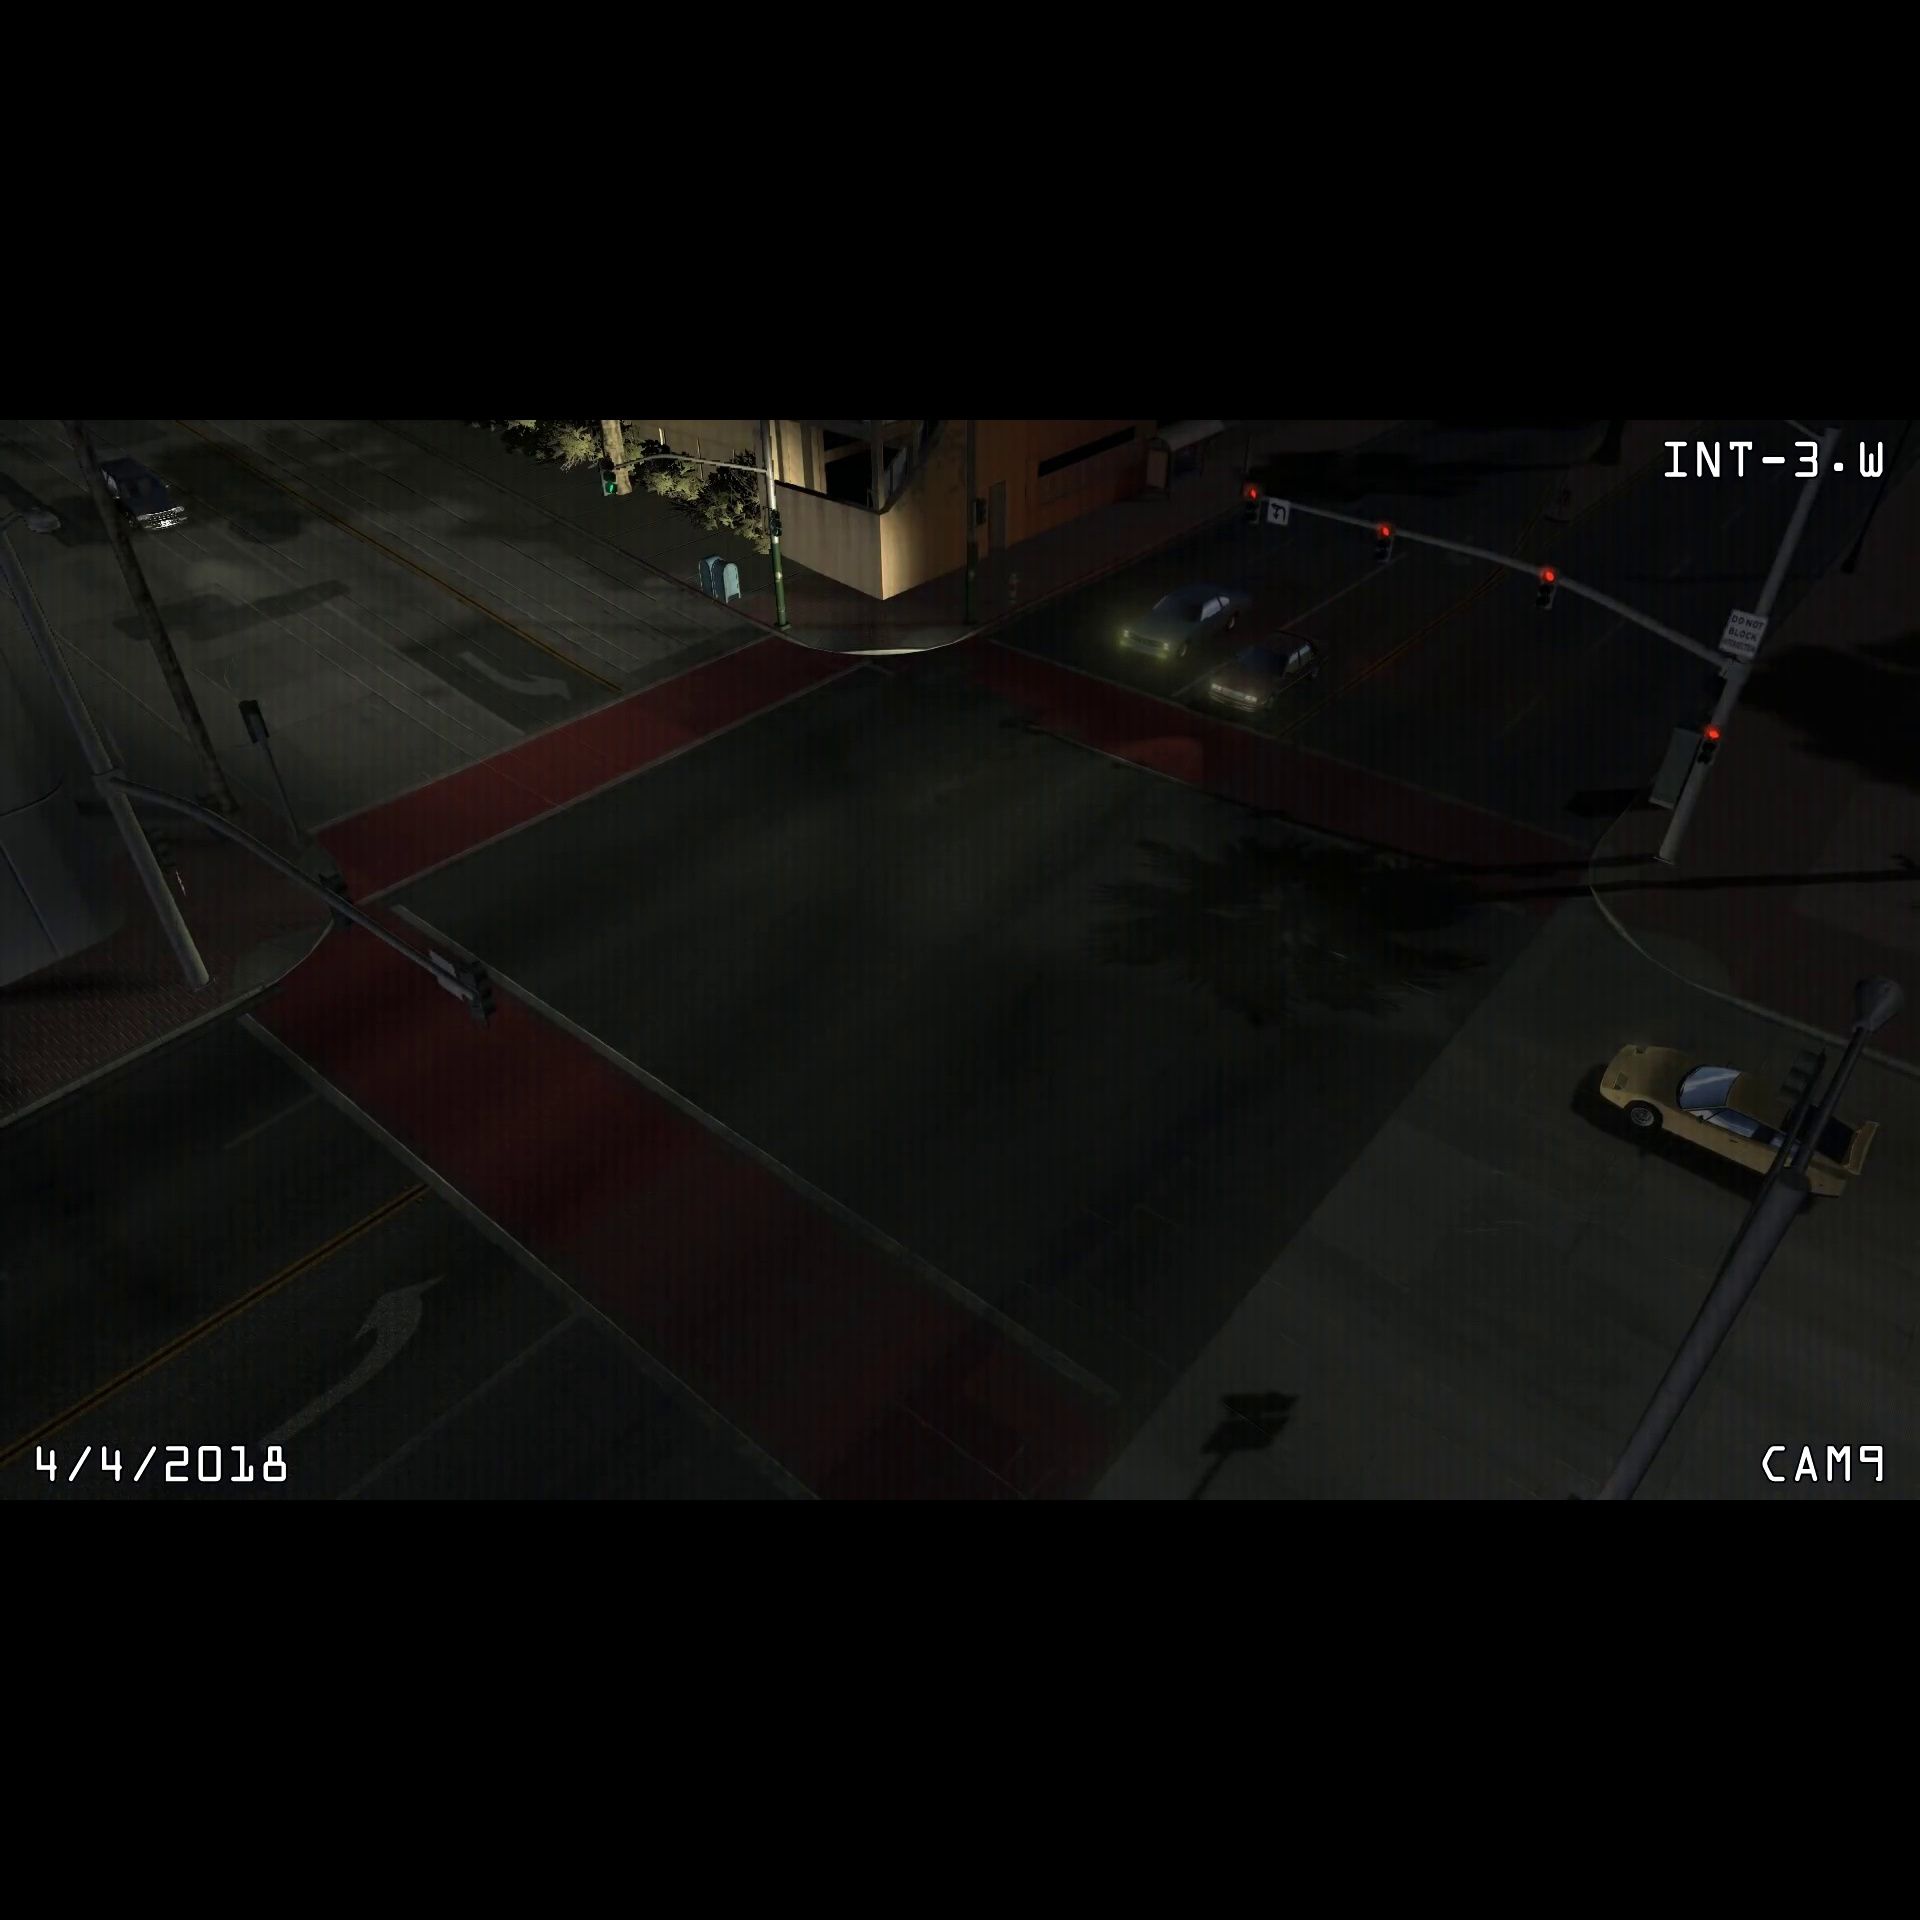vehicle: (1584, 1037, 1880, 1206), (1109, 578, 1257, 675), (1203, 629, 1327, 724), (84, 452, 199, 540)
